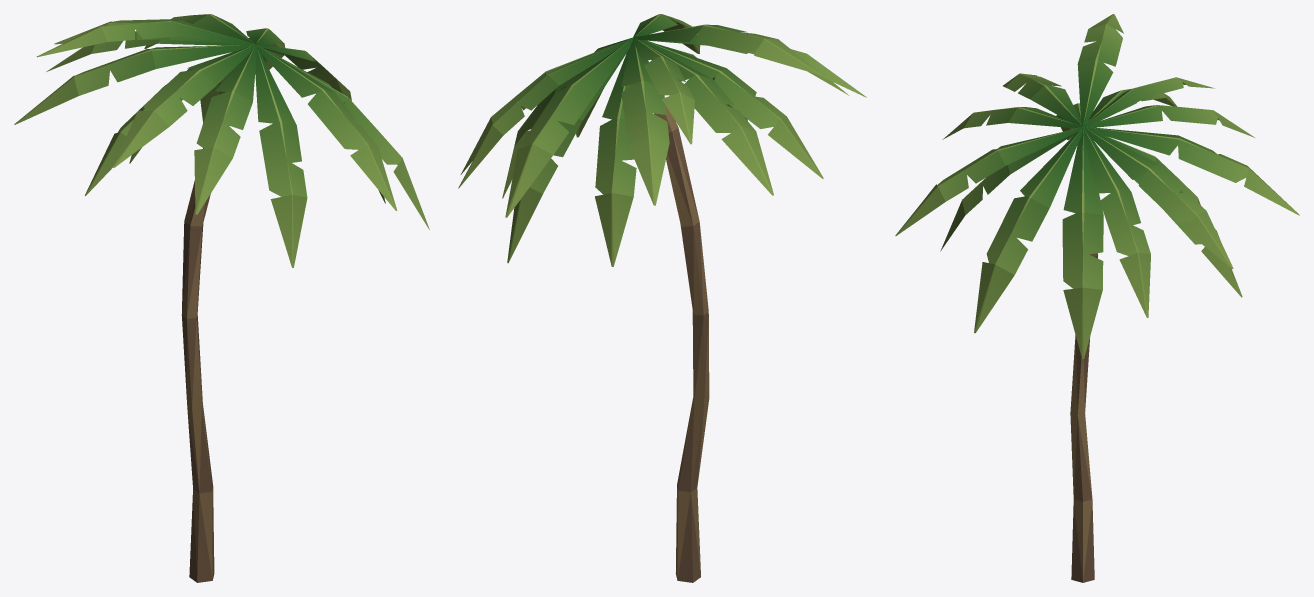
Rendered from Tree_5.fbx.
3 renders of one model, left to right at view 1: azimuth 30°, elevation 25°; view 2: azimuth 150°, elevation 25°; view 3: azimuth 270°, elevation 25°, orthographic. The views are drawn at different scales.
Visible parts, largest first — view 1: polySurface540; view 2: polySurface540; view 3: polySurface540.
Boxes of the visible parts, x1,y1,x2,y2 form: polySurface540: (14,14,429,582); polySurface540: (458,14,866,582); polySurface540: (895,14,1299,582).
Size of the model in its own units: 842 by 1339 by 953.
